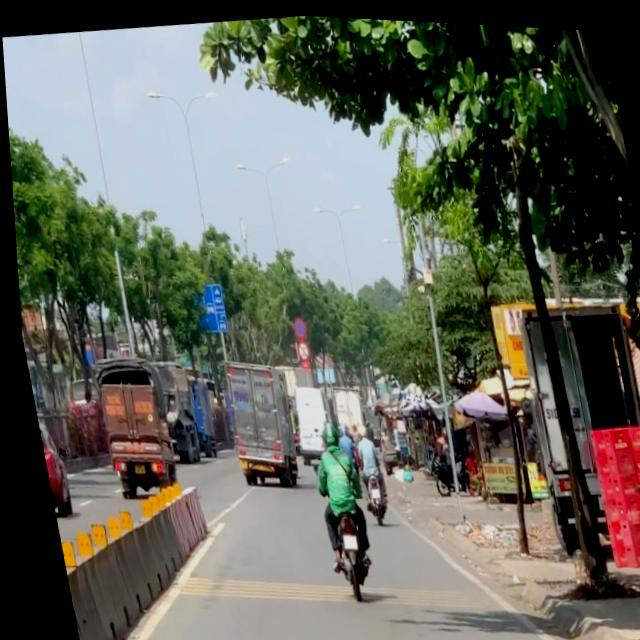Cam dung xe va do xe: (287, 314, 303, 337)
